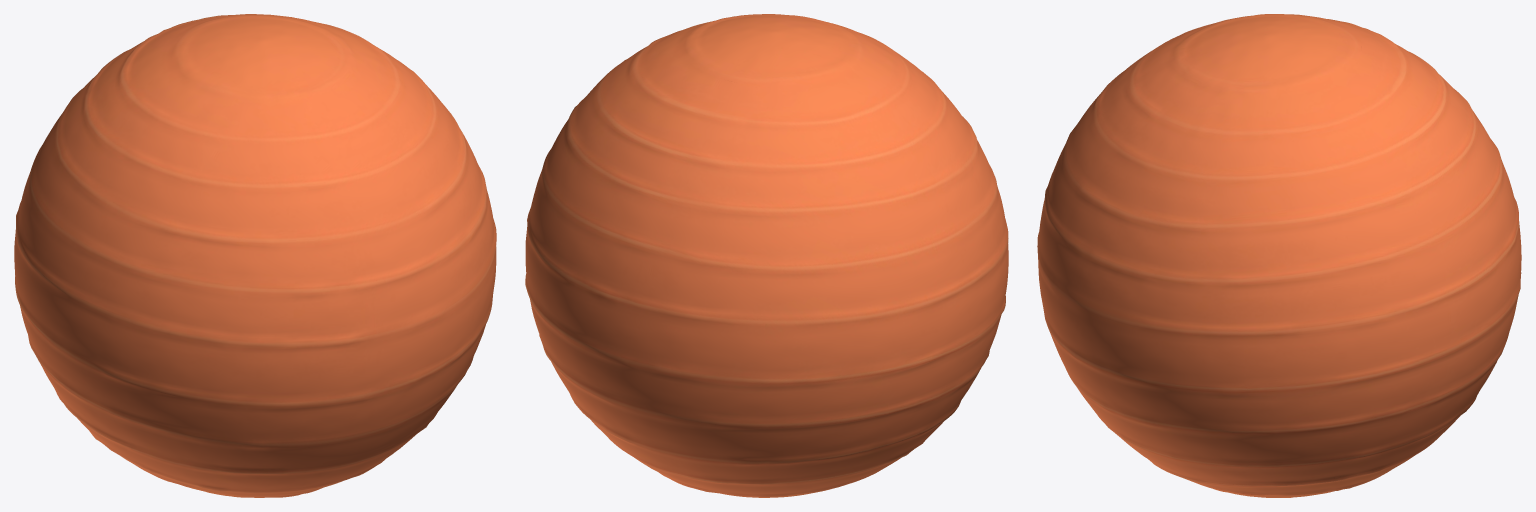
3 renders of one model, left to right at view 1: azimuth 30°, elevation 25°; view 2: azimuth 150°, elevation 25°; view 3: azimuth 270°, elevation 25°, orthographic.
Visible parts, largest first — view 1: tripo_node_1d4190d2; view 2: tripo_node_1d4190d2; view 3: tripo_node_1d4190d2.
Boxes of the visible parts, x1,y1,x2,y2 form: tripo_node_1d4190d2: [14, 14, 496, 497]; tripo_node_1d4190d2: [525, 14, 1008, 497]; tripo_node_1d4190d2: [1037, 14, 1521, 497].
Bounding box in the file's own units: 99.52 × 99.93 × 99.54.
1 material, 1 textured.
